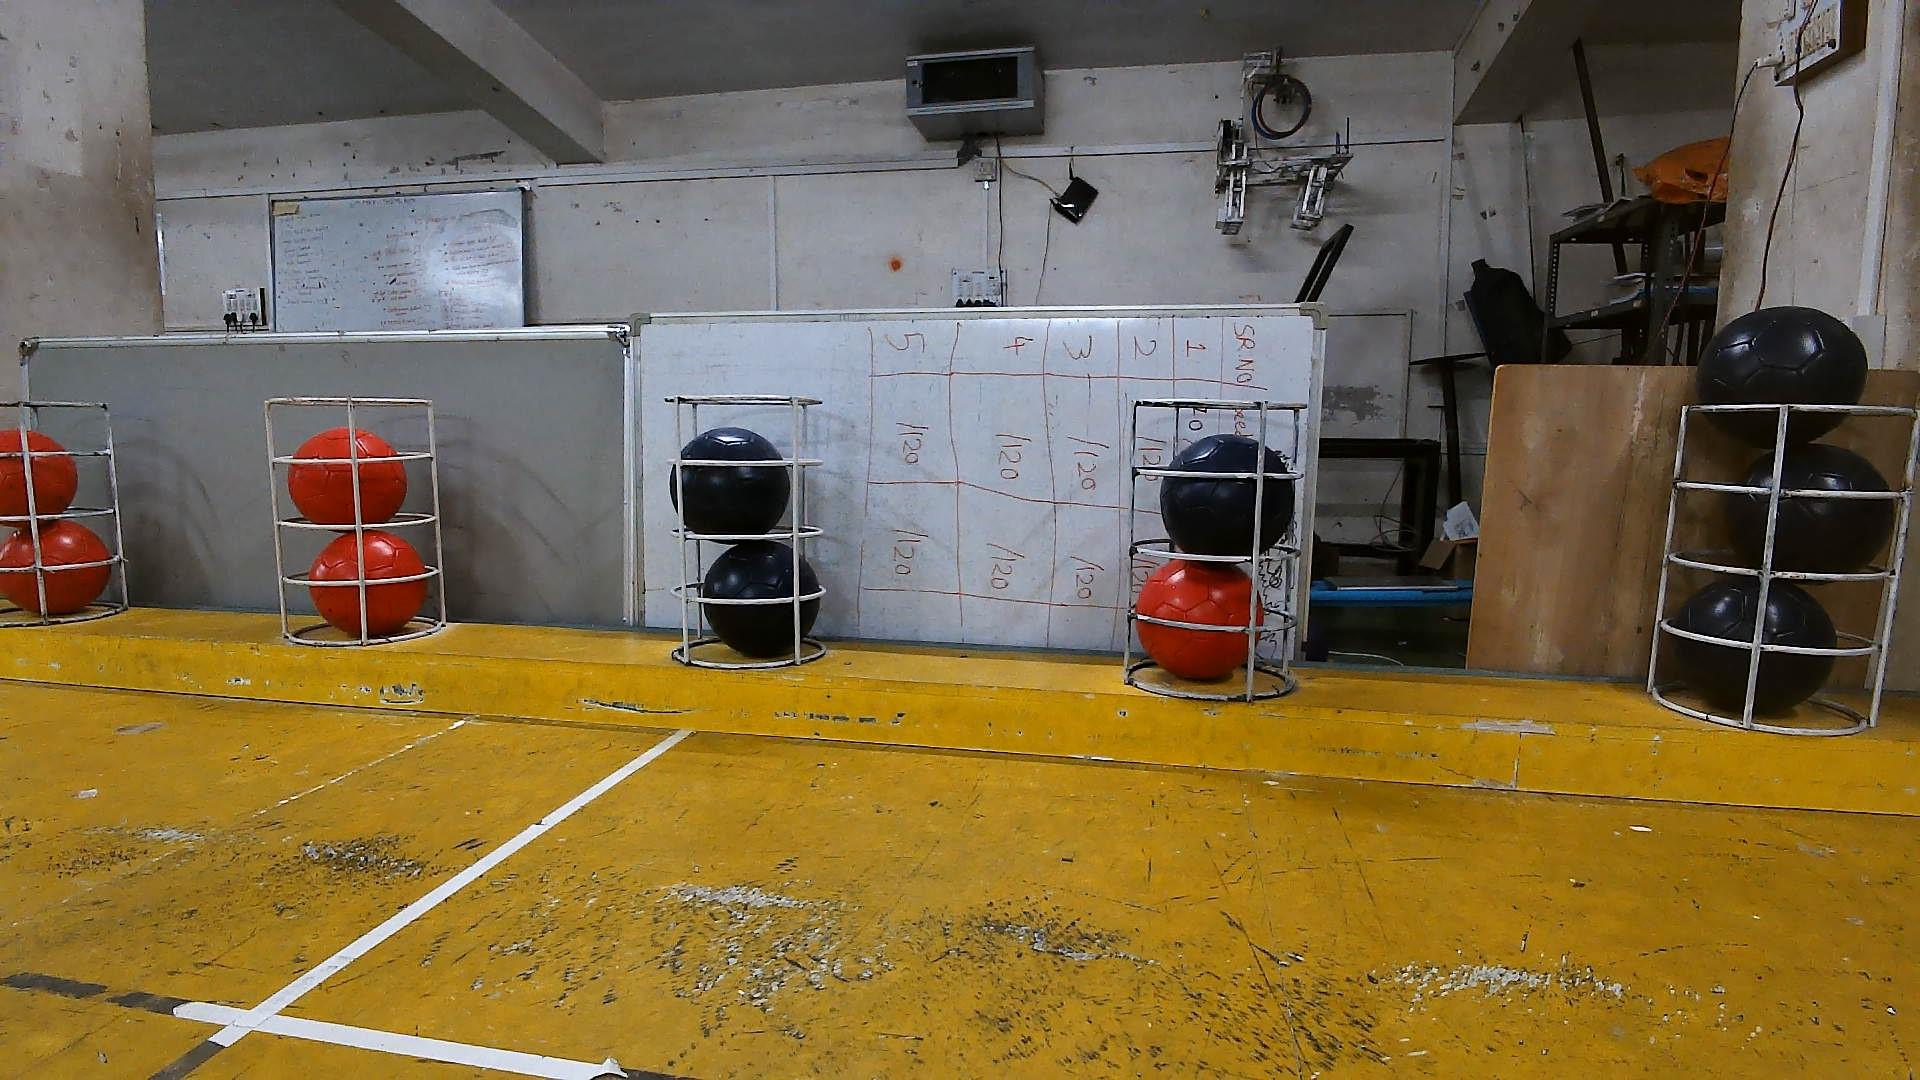dhoka: (1668, 574, 1837, 716), (1695, 307, 1867, 446), (1725, 443, 1898, 574), (1159, 435, 1298, 555), (702, 541, 822, 661), (667, 427, 791, 537)
laale: (1133, 559, 1249, 683), (307, 533, 427, 637), (289, 431, 409, 525), (0, 521, 108, 615), (0, 427, 79, 517)
